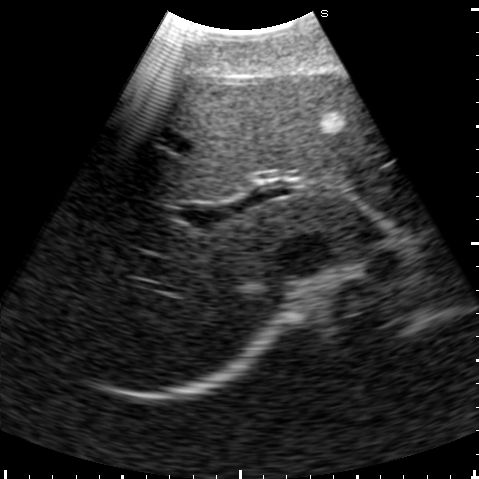IVC: (276, 234, 333, 277)
S1: (298, 193, 380, 250)
S2: (351, 181, 434, 234)
S3: (290, 75, 404, 186)
S4: (134, 71, 335, 200)
Tumor: (318, 112, 348, 135)
